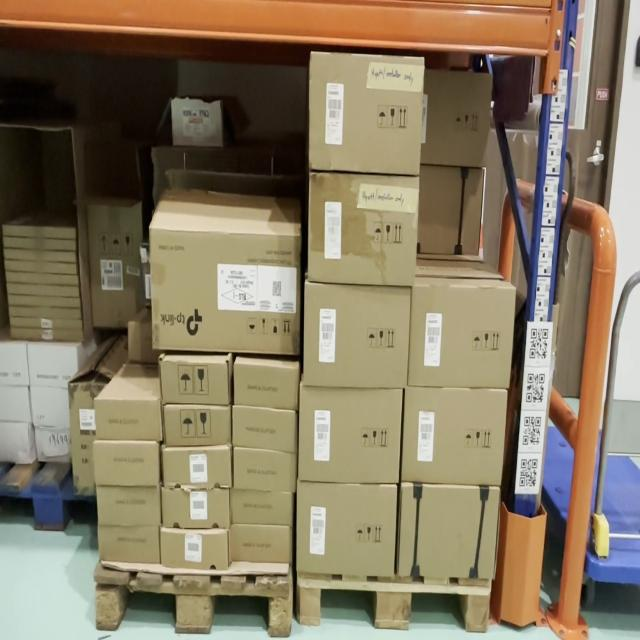box: (150, 229, 300, 353), (312, 54, 421, 175), (310, 178, 416, 283), (305, 285, 409, 386), (412, 287, 512, 386), (300, 387, 400, 481), (406, 391, 503, 484), (400, 486, 492, 577), (299, 486, 394, 572), (235, 359, 298, 406), (233, 407, 296, 451), (165, 403, 231, 443), (100, 521, 160, 564), (94, 442, 156, 482), (95, 399, 160, 437), (160, 364, 228, 399), (234, 450, 295, 489), (234, 488, 292, 527), (173, 99, 223, 144), (162, 492, 230, 525), (162, 450, 232, 482), (97, 490, 162, 521), (163, 533, 227, 563), (230, 532, 292, 562)
